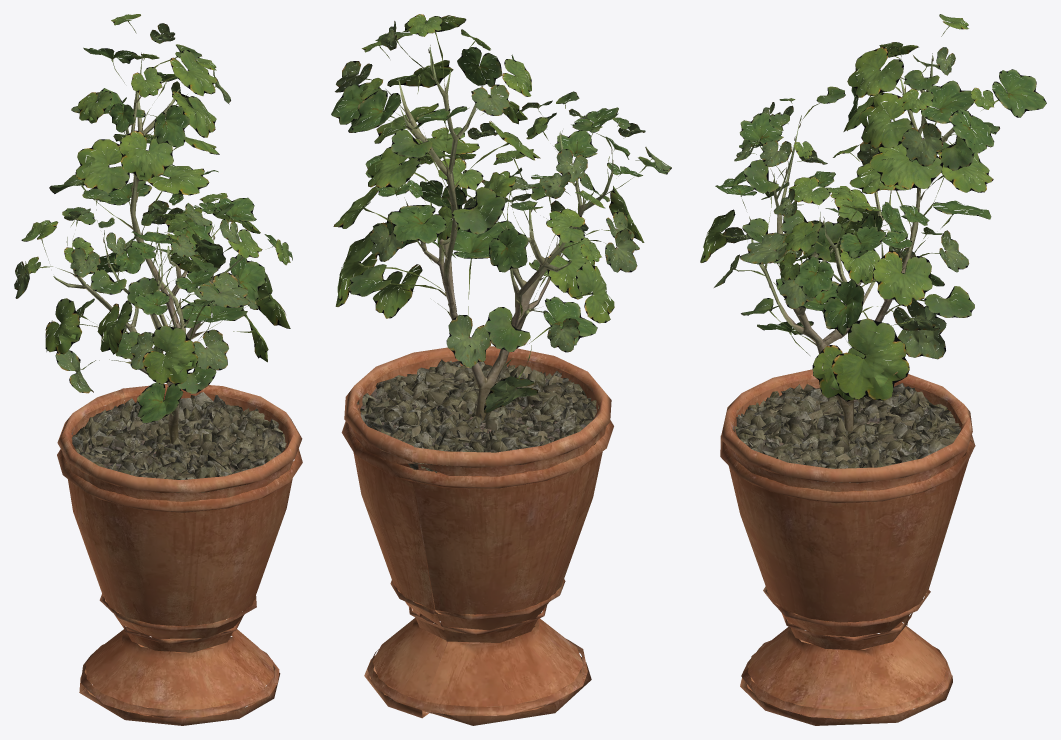
File: plant_a.glb
The picture shows the model from 3 angles, left to right: view 1: azimuth 30°, elevation 25°; view 2: azimuth 150°, elevation 25°; view 3: azimuth 270°, elevation 25°; orthographic projection. The views are drawn at different scales.
Visible parts, largest first — view 1: potted_plant_01_pebbles, potted_plant_01_leaves; view 2: potted_plant_01_pebbles, potted_plant_01_leaves; view 3: potted_plant_01_pebbles, potted_plant_01_leaves.
Boxes of the visible parts, x1=… form: potted_plant_01_pebbles: x1=53, y1=54, x2=302, y2=725; potted_plant_01_leaves: x1=14, y1=14, x2=292, y2=422; potted_plant_01_pebbles: x1=341, y1=47, x2=613, y2=725; potted_plant_01_leaves: x1=331, y1=14, x2=671, y2=413; potted_plant_01_pebbles: x1=720, y1=55, x2=975, y2=725; potted_plant_01_leaves: x1=700, y1=14, x2=1046, y2=401.
Bounding box in the file's own units: 0.5858 × 1.34 × 0.6334.
Materials: 2 (2 with a texture image).
